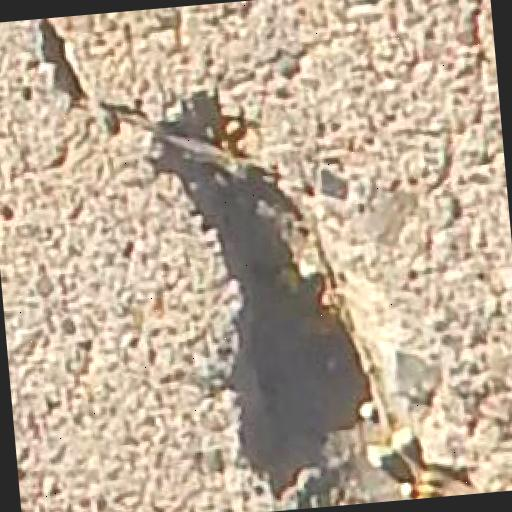spalling: (21, 19, 494, 500)
